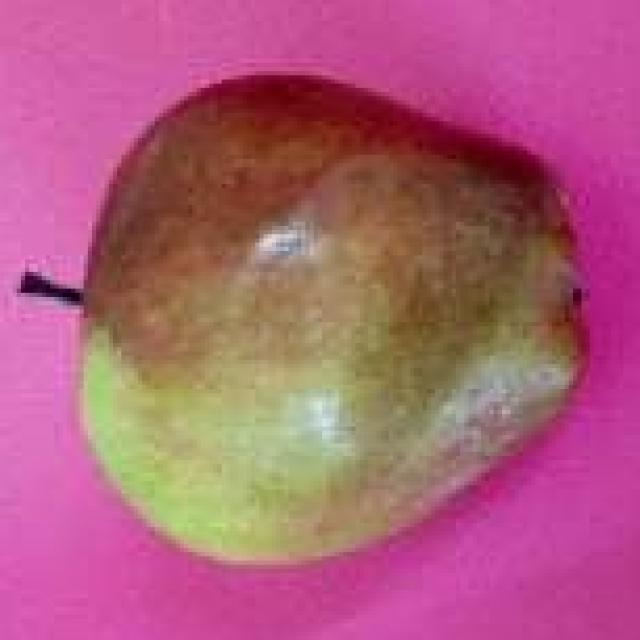Good_Apple 10-21 days: (82, 75, 579, 562)
